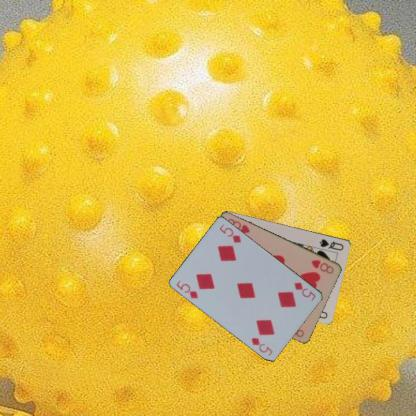5d: (174, 278, 200, 300), (292, 280, 317, 302)
8h: (309, 257, 335, 275)
Qs: (317, 236, 345, 252)
